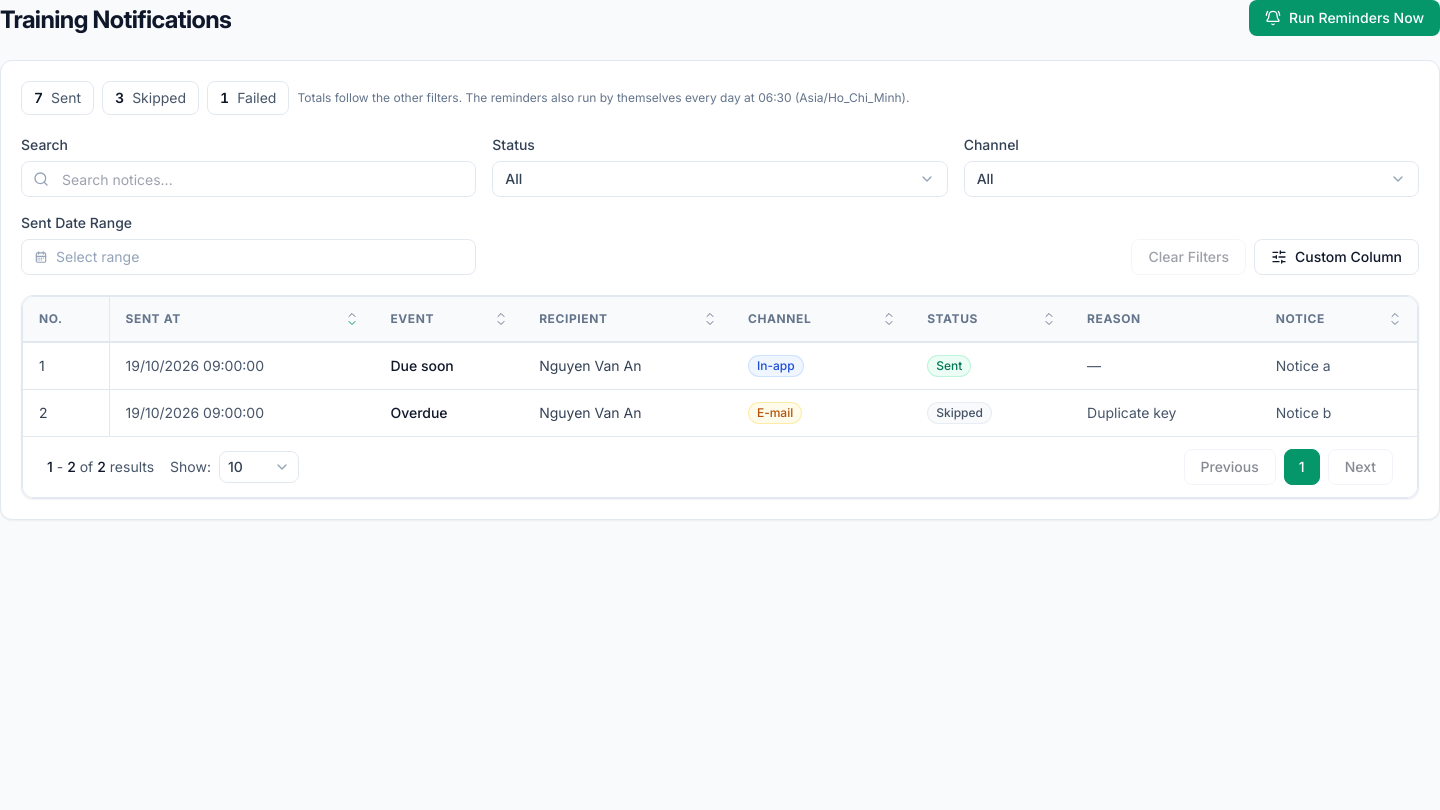
Scenario: TrainingNotificationsView › runs the reminders only after the person confirms, and reports what the server says it really sent
This screenshot has width=1440, height=810.
Expected: the text "Due soon" is shown, [390,357,454,374]
Click the button "Run Reminders Now".
click(1344, 18)  # box [1249,0,1439,36]
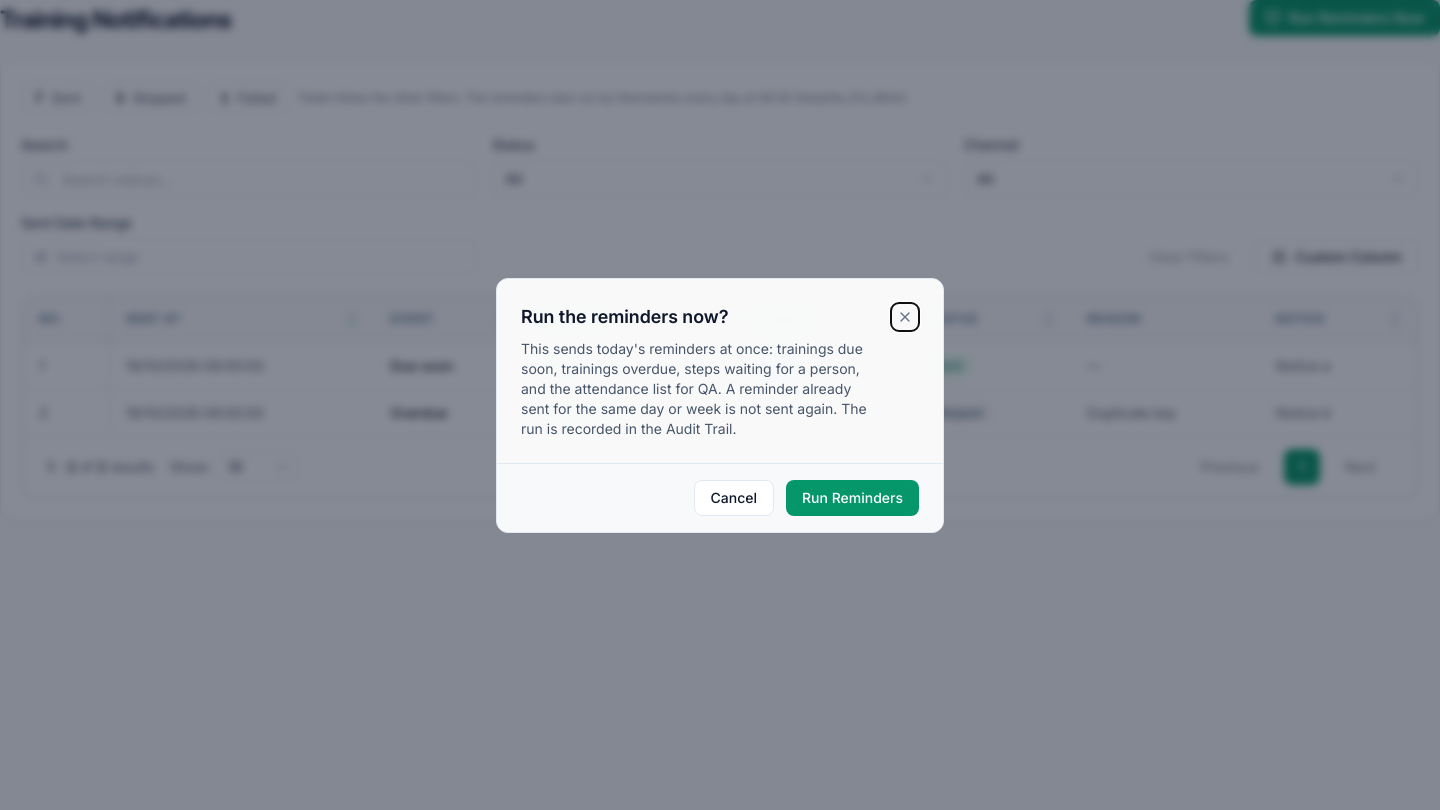
Click the button "Run Reminders".
click(852, 498)  # box [786,480,919,516]
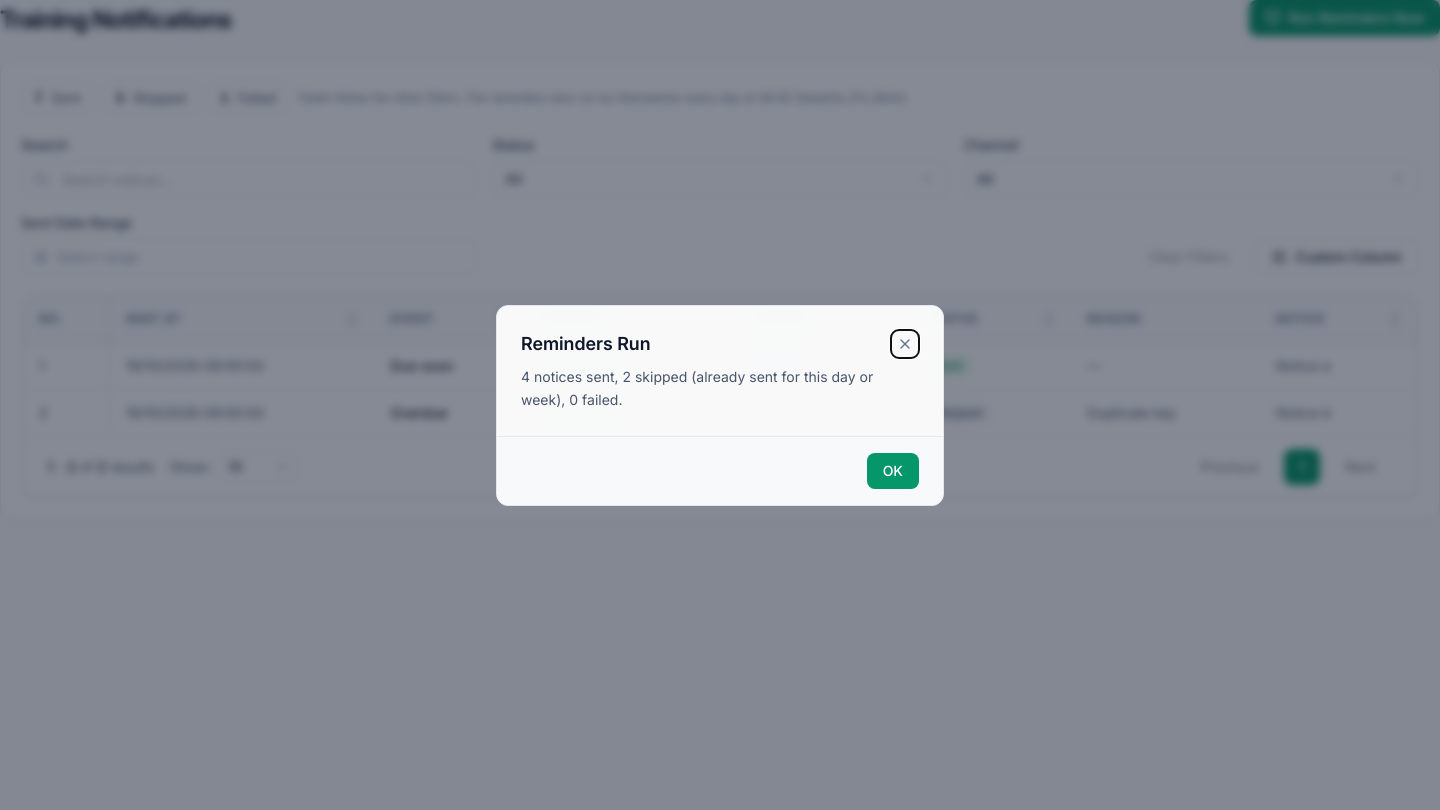
Now the text "4 notices sent, 2 skipped (already sent for this day or week), 0 failed." is shown, box [521,366,879,411]
